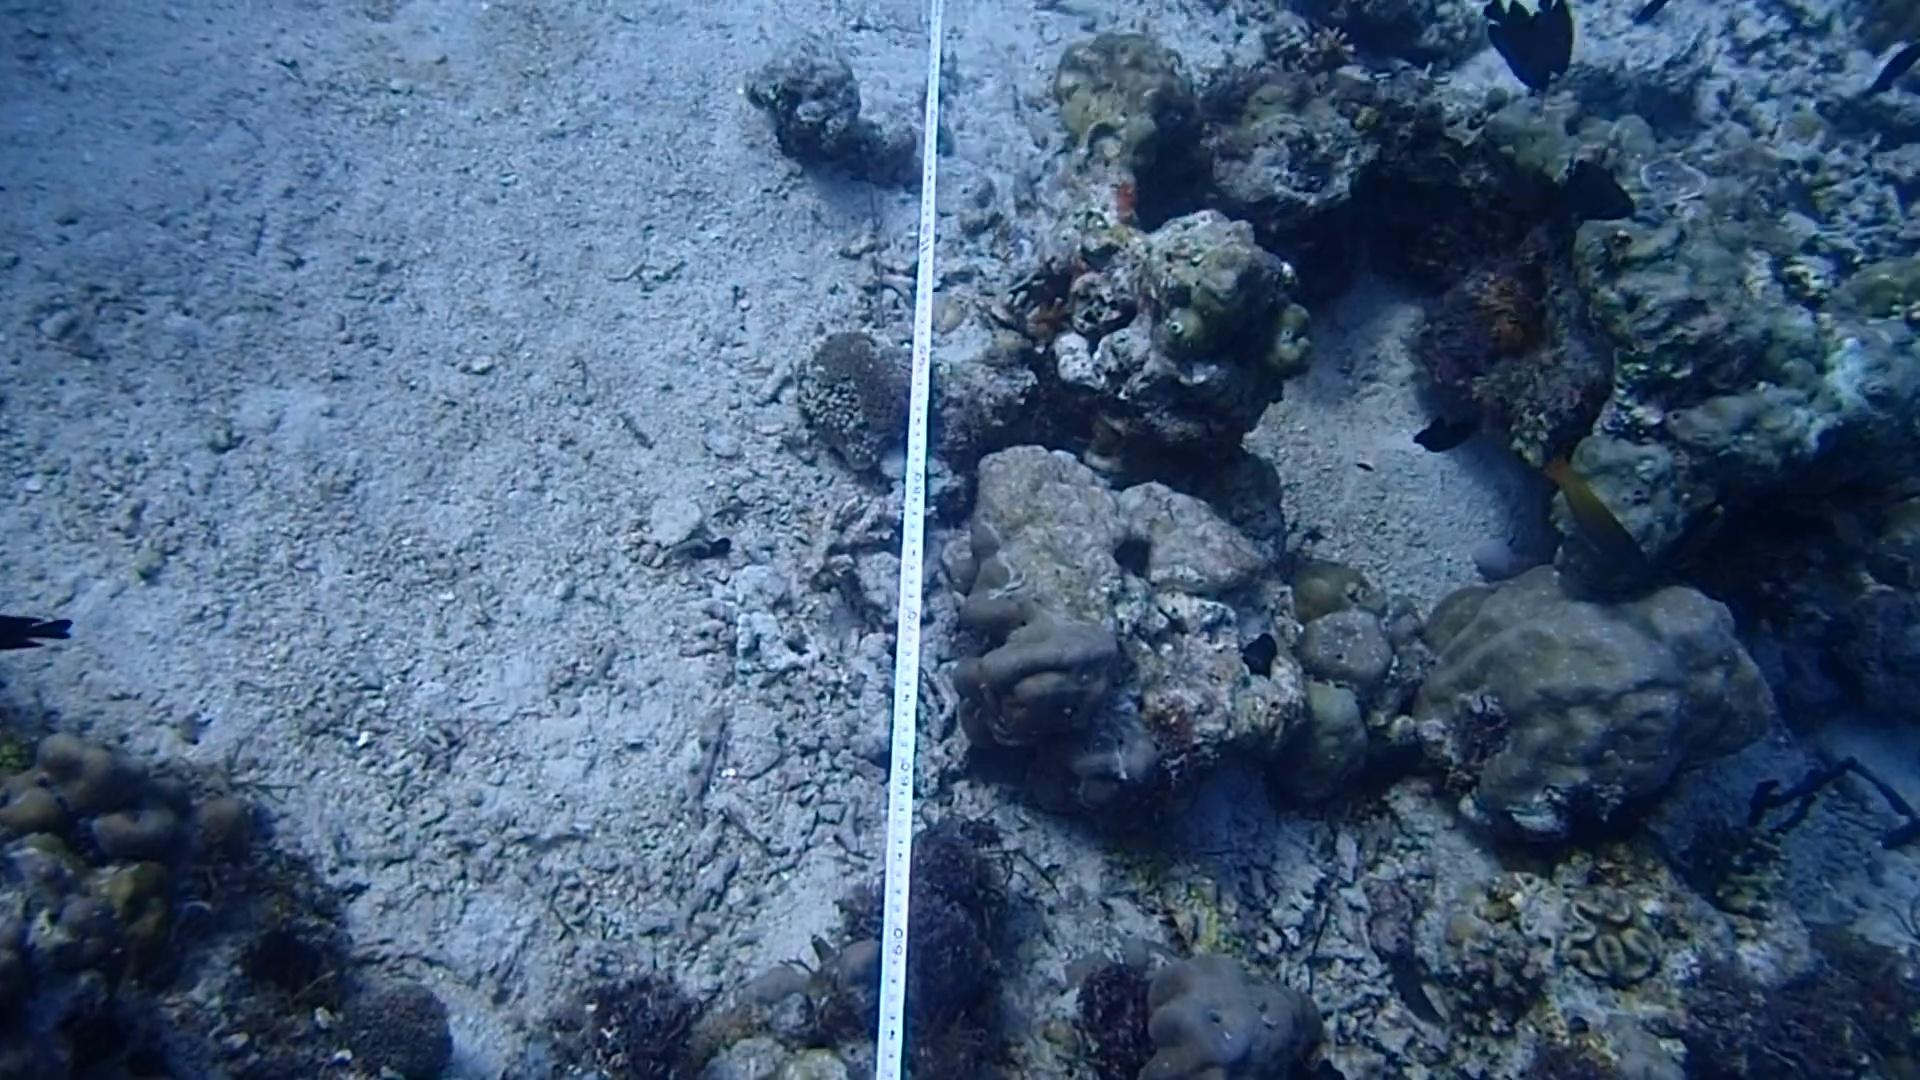Dark Fish: (1547, 146, 1639, 228), (1484, 0, 1556, 98), (1854, 22, 1920, 108), (1522, 0, 1586, 80), (0, 600, 73, 659), (1411, 398, 1472, 463)
Half Blue - Half Yellow: (1534, 444, 1658, 591)
